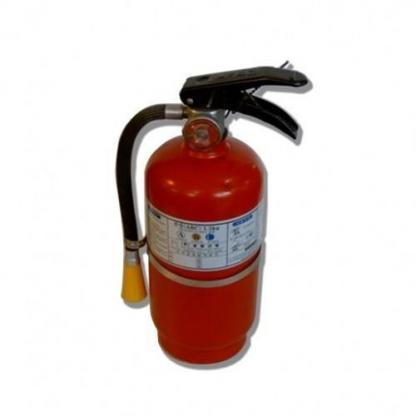Fire Extinguisher: (110, 50, 322, 369)
